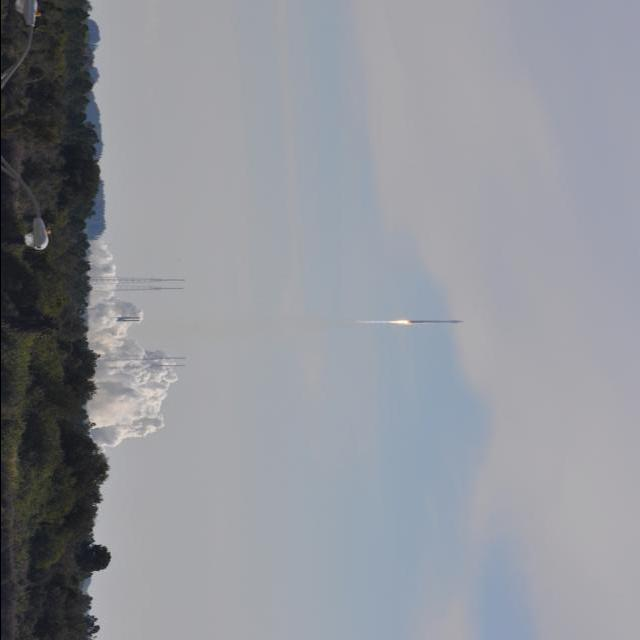missile: (404, 319, 466, 324)
